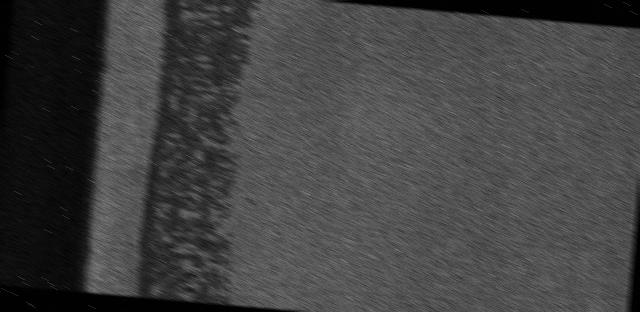oil_spot: (120, 0, 285, 307)
